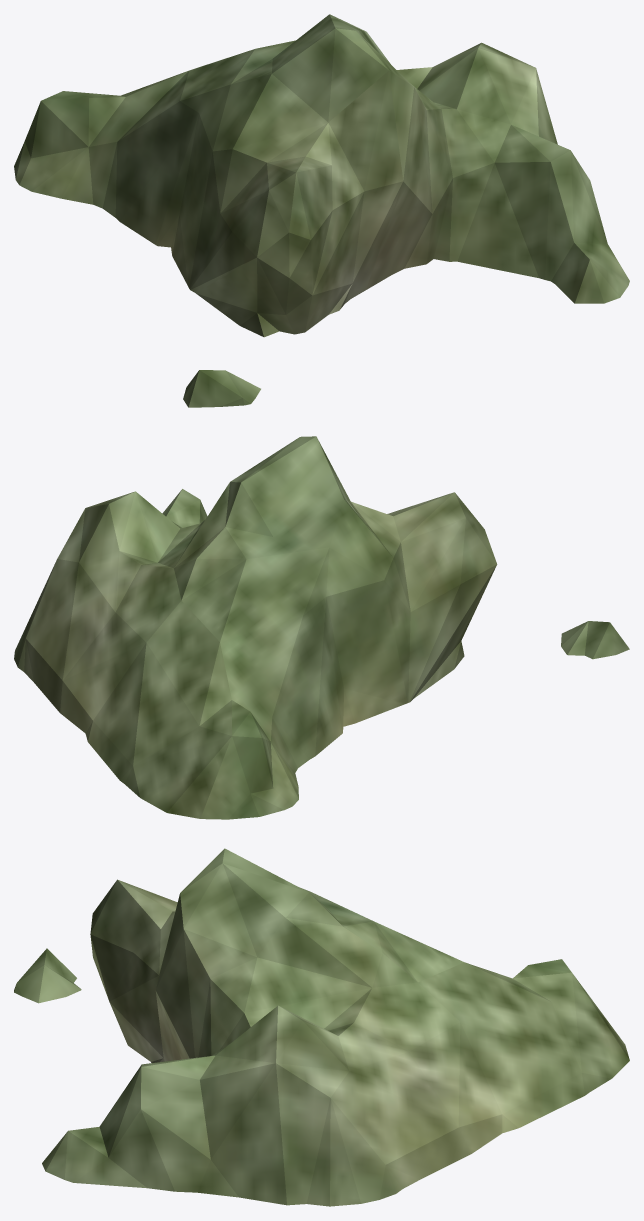
3 views of the same model, one above another, from view 1: azimuth 30°, elevation 25°; view 2: azimuth 150°, elevation 25°; view 3: azimuth 270°, elevation 25° (orthographic). The views are drawn at different scales.
Size of the model in its own units: 2.07 by 0.9547 by 2.27.
1 material, 1 textured.
